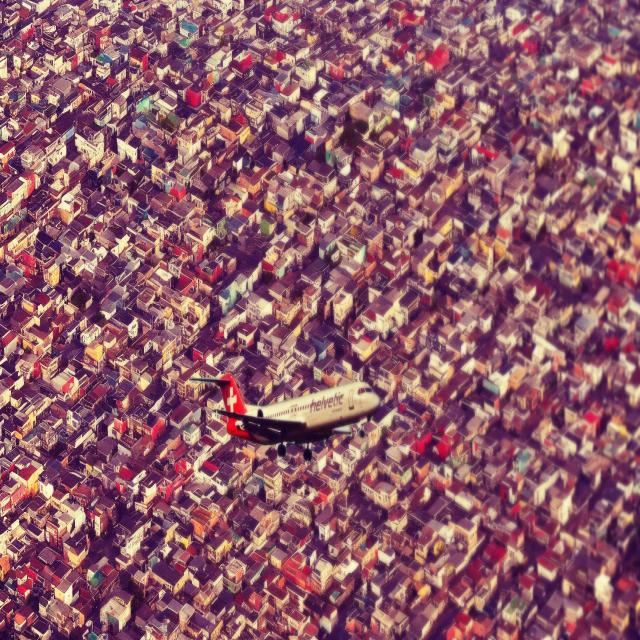airplane: (188, 370, 382, 457)
